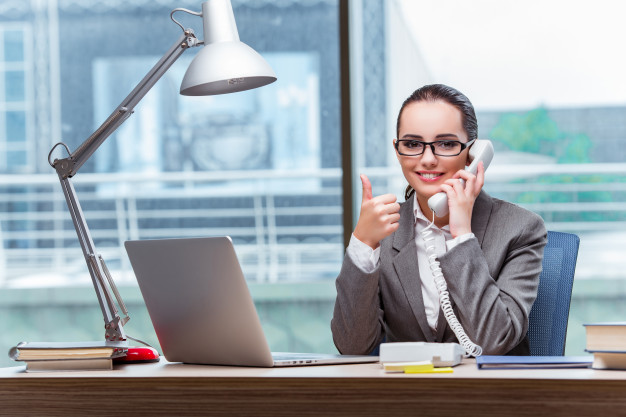thumbsup: (358, 173, 401, 232)
